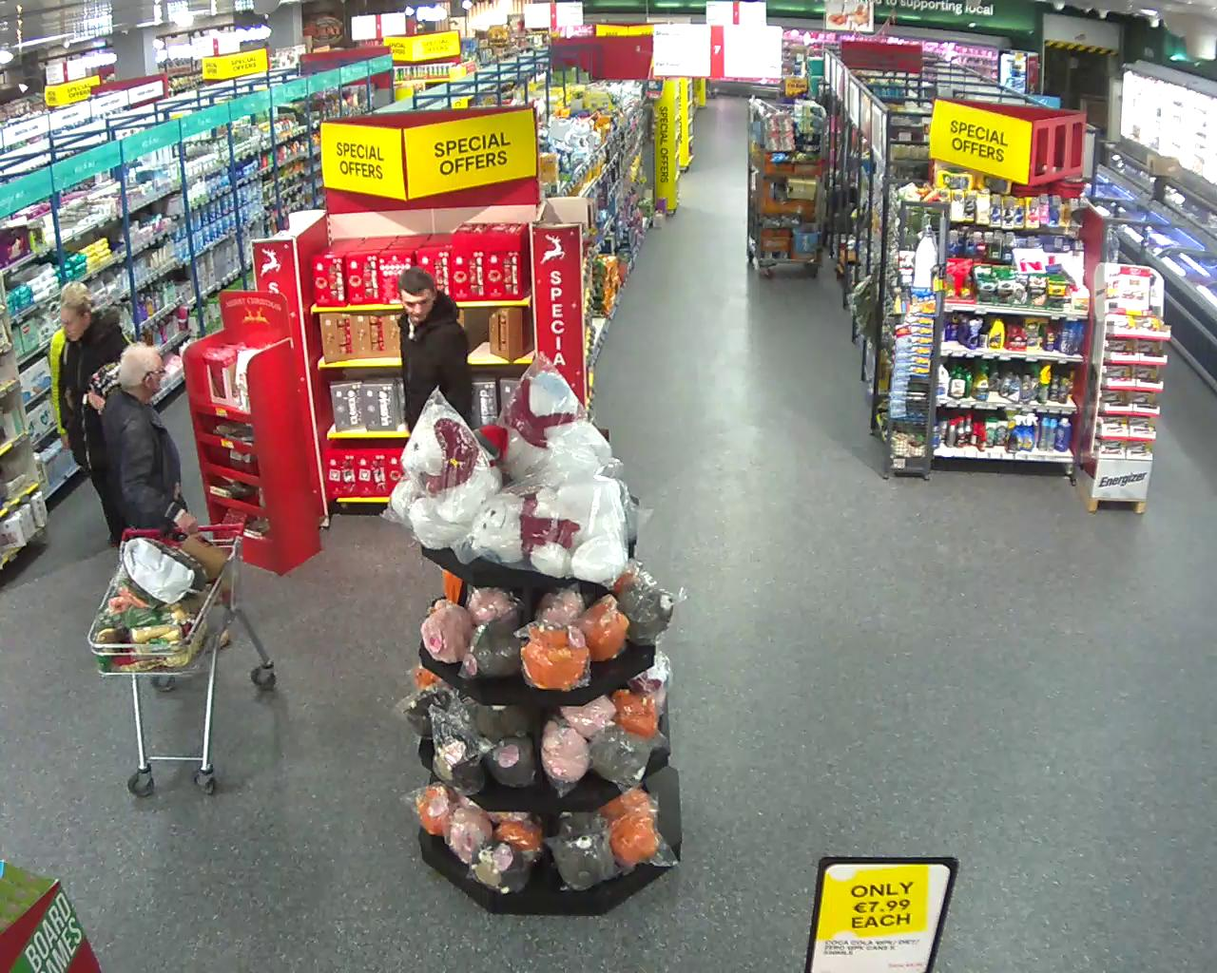filled-trolly: (90, 521, 276, 794)
person: (101, 341, 199, 540)
person-with-filled-basket-trolly: (90, 340, 276, 795)
